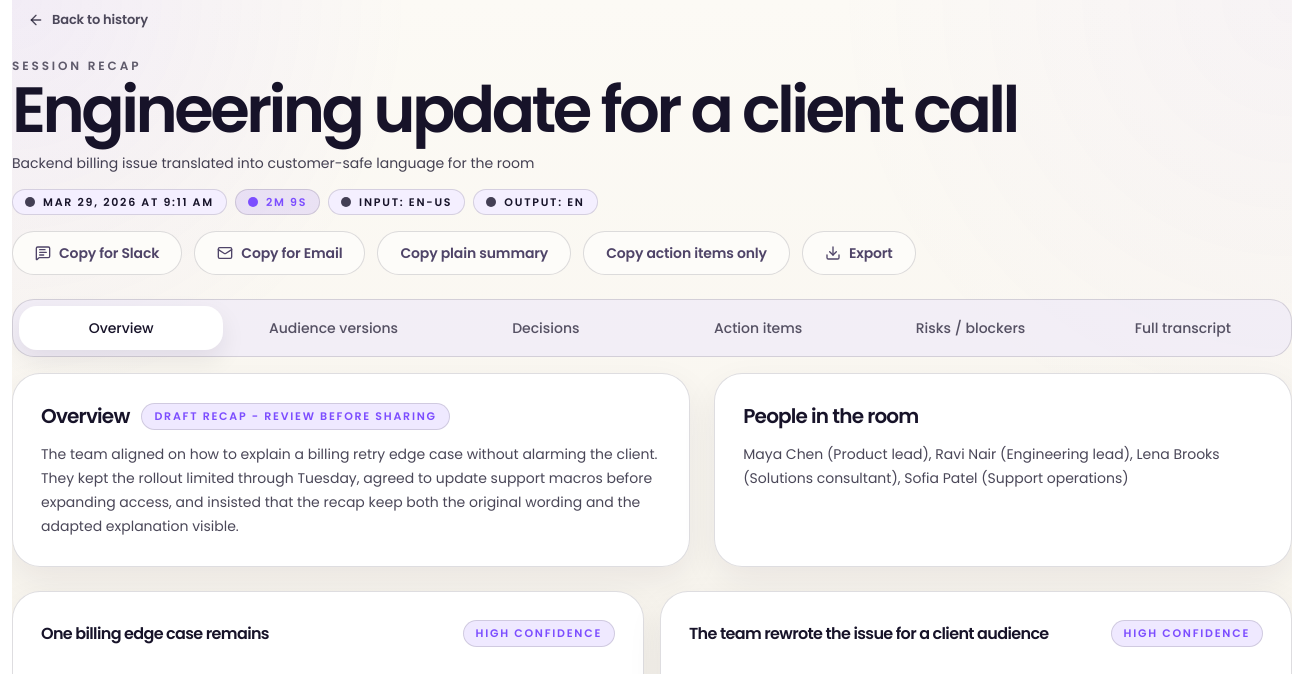
it: SessionDetailPage › renders the summary and transcript content
Expected: the text with test id "summary-overview" shows "The team aligned on how to explain a billing retry edge case", 41,444 -> 658,536
Click the tab "Full transcript" at {"x": 1183, "y": 328}, box 1081,306 -> 1285,350
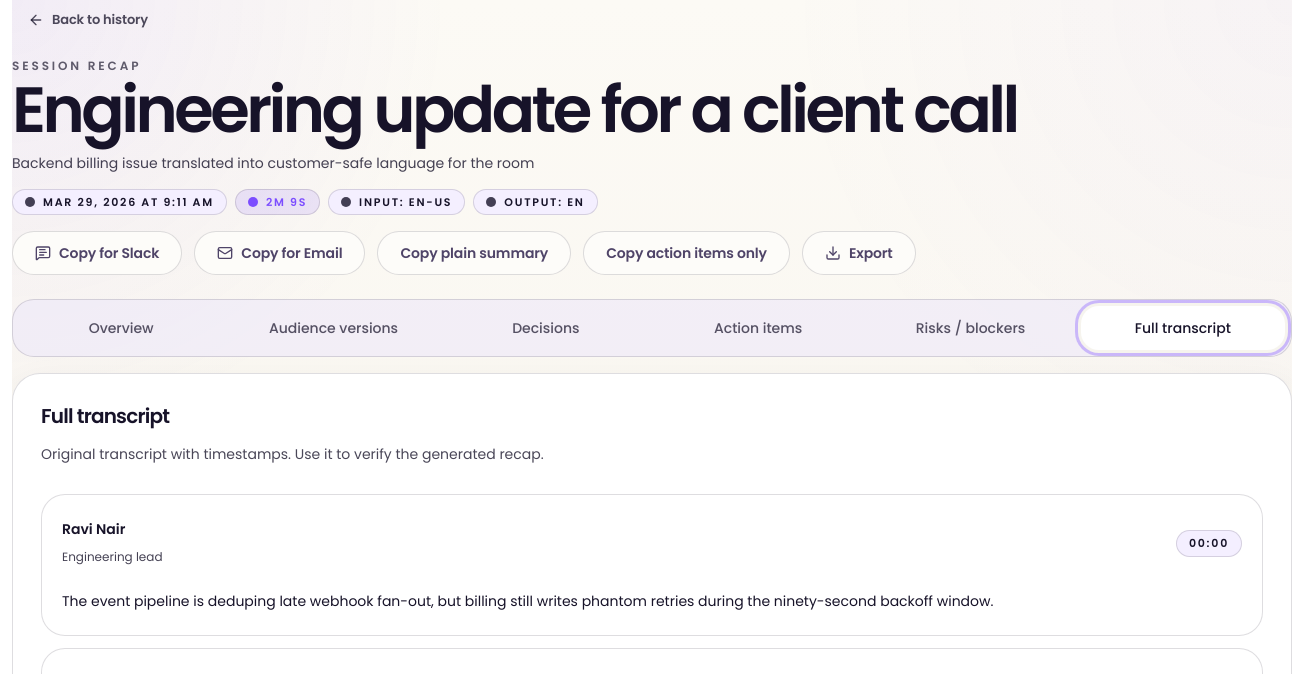
Expected: the text "The event pipeline is deduping late webhook fan-out, but billing still writes phantom retries during the ninety-second b" is shown, 62,591 -> 994,611
